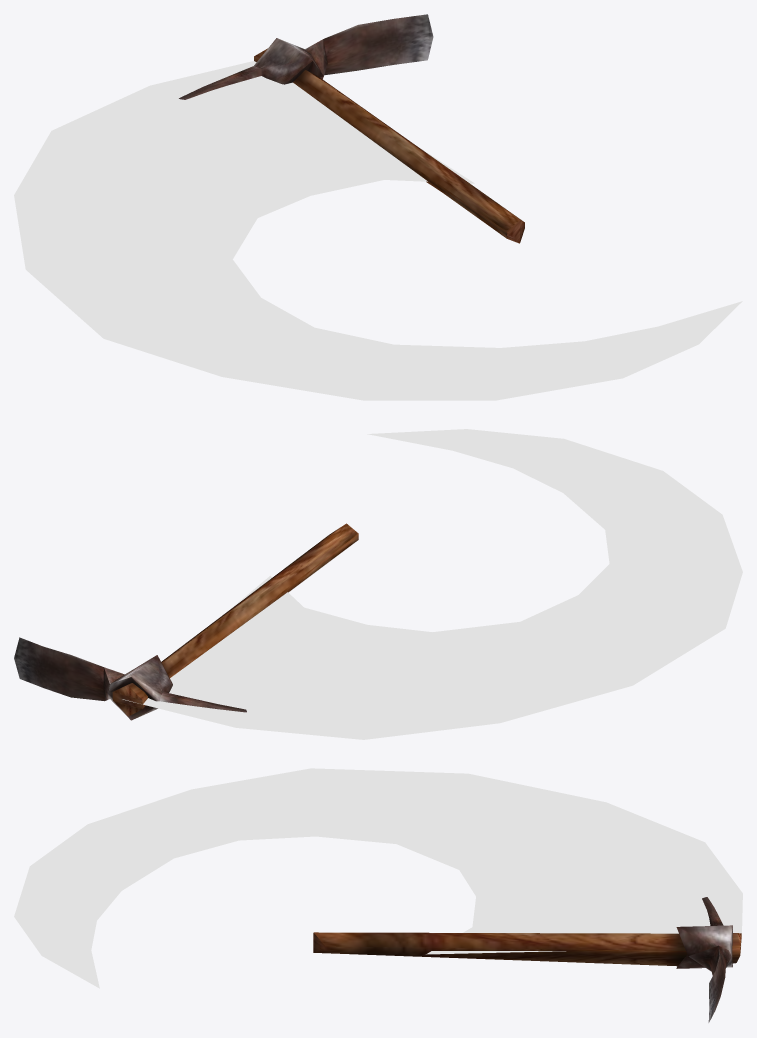
Rendered from pick_axe_high.fbx.
3 views of the same model, one above another, from view 1: azimuth 30°, elevation 25°; view 2: azimuth 150°, elevation 25°; view 3: azimuth 270°, elevation 25° (orthographic). The views are drawn at different scales.
Visible parts, largest first — view 1: motion_blur, axehead_mesh, axehandle_mesh; view 2: motion_blur, axehead_mesh, axehandle_mesh; view 3: motion_blur, axehandle_mesh, axehead_mesh.
Boxes of the visible parts, left/top/right/bottom form: motion_blur: left=14, top=61, right=742, bottom=400; axehead_mesh: left=179, top=14, right=433, bottom=99; axehandle_mesh: left=254, top=48, right=524, bottom=243; motion_blur: left=122, top=429, right=742, bottom=739; axehead_mesh: left=14, top=637, right=246, bottom=720; axehandle_mesh: left=112, top=523, right=358, bottom=716; motion_blur: left=14, top=768, right=742, bottom=988; axehandle_mesh: left=313, top=932, right=741, bottom=966; axehead_mesh: left=676, top=897, right=732, bottom=1022.
Bounding box in the file's own units: 427 × 35.66 × 554.
2 materials, 2 textured.
